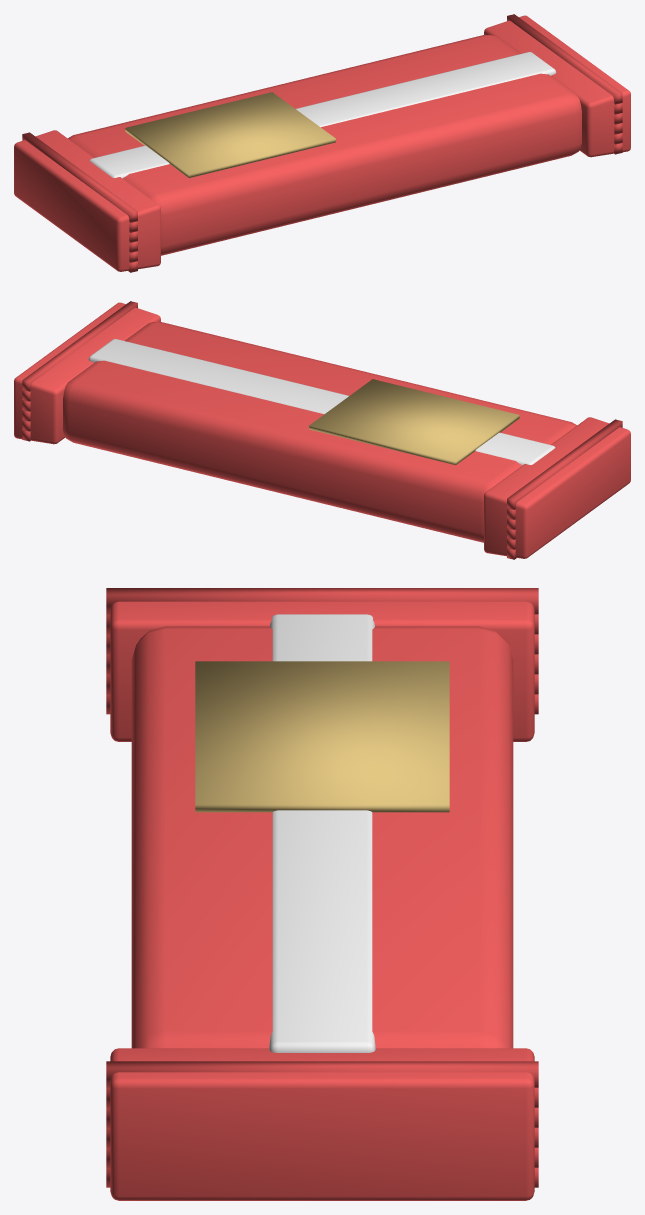
The model's file is SM_ChocoBar.glb.
3 views of the same model, one above another, from view 1: azimuth 30°, elevation 25°; view 2: azimuth 150°, elevation 25°; view 3: azimuth 270°, elevation 25° (orthographic). The views are drawn at different scales.
Visible parts, largest first — view 1: SM_ChocoBar; view 2: SM_ChocoBar; view 3: SM_ChocoBar.
Boxes of the visible parts, x1,y1,x2,y2 form: SM_ChocoBar: [14, 14, 630, 272]; SM_ChocoBar: [14, 301, 630, 559]; SM_ChocoBar: [106, 588, 538, 1200].
Bounding box in the file's own units: 0.14 × 0.0173 × 0.051.
